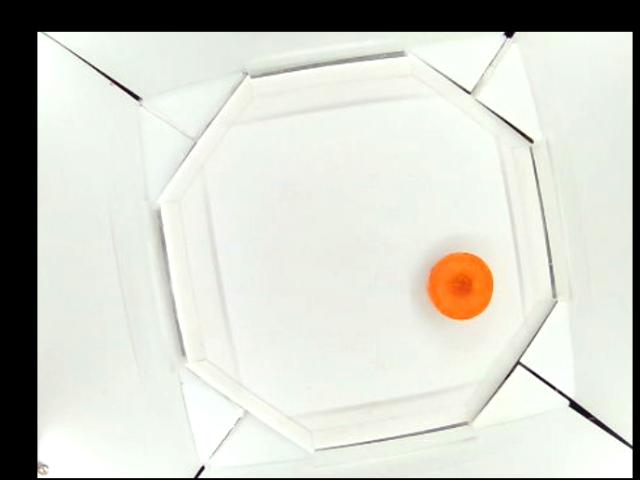Carrot: (427, 253, 494, 320)
